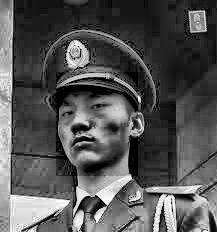angry: (56, 73, 138, 177)
